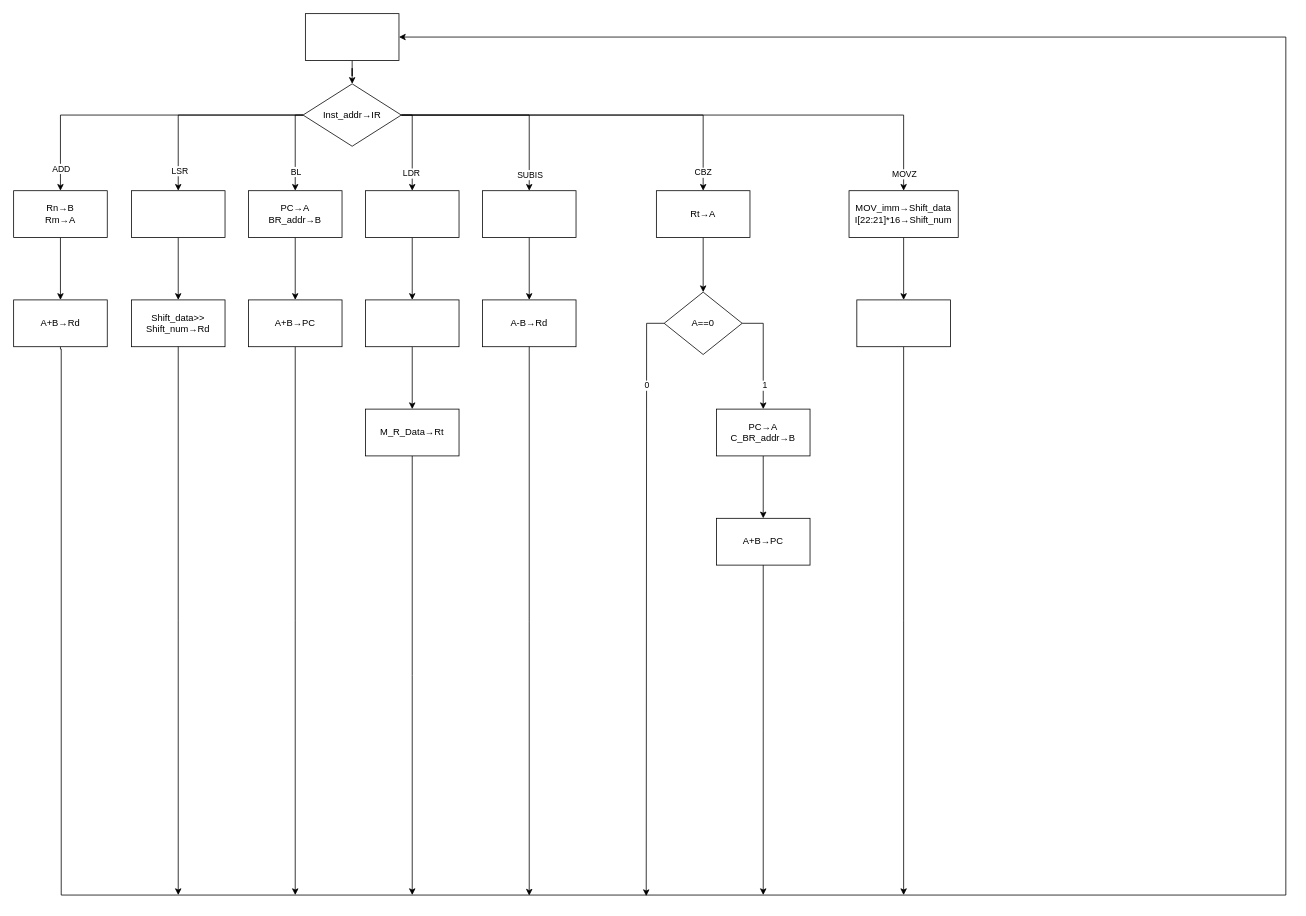
This 1306x916 diagram has some shape labels left out. Here are the shapes that lost their labels. From the top down, the centre of each, then its label:
At point 352,36: "PC→AR PC+4".
At point 178,214: "shamt→Shift_num Rn→Shift_data".
At point 412,214: "Rn→A DT_Addr→B".
At point 529,214: "Rn→A ALU_imm→B".
At point 412,323: "A+B→M_Addr".
At point 903,323: "Shift_data<< Shift_num→Rd".
